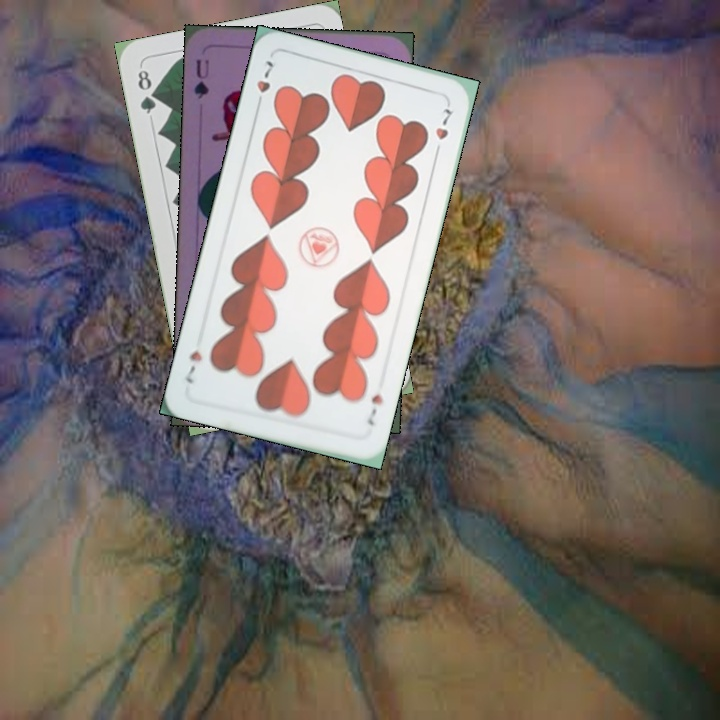G8: (134, 65, 159, 117)
GU: (190, 55, 212, 101)
H7: (252, 56, 276, 112), (362, 389, 386, 428)
